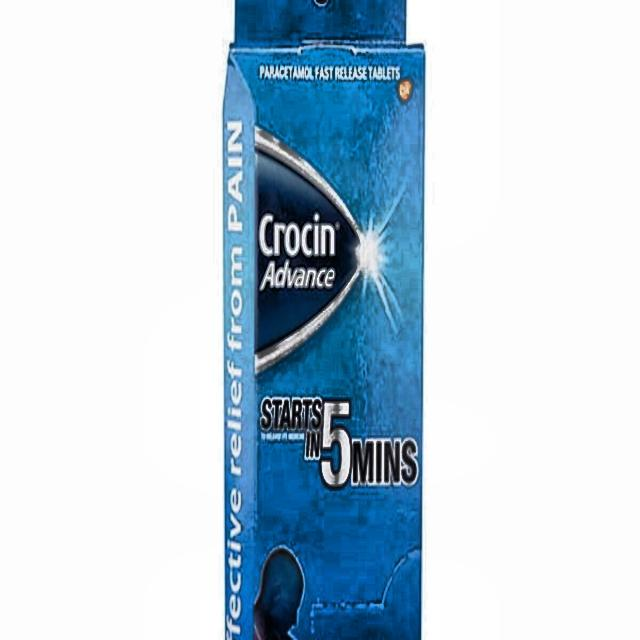Crocin: (254, 157, 362, 355)
